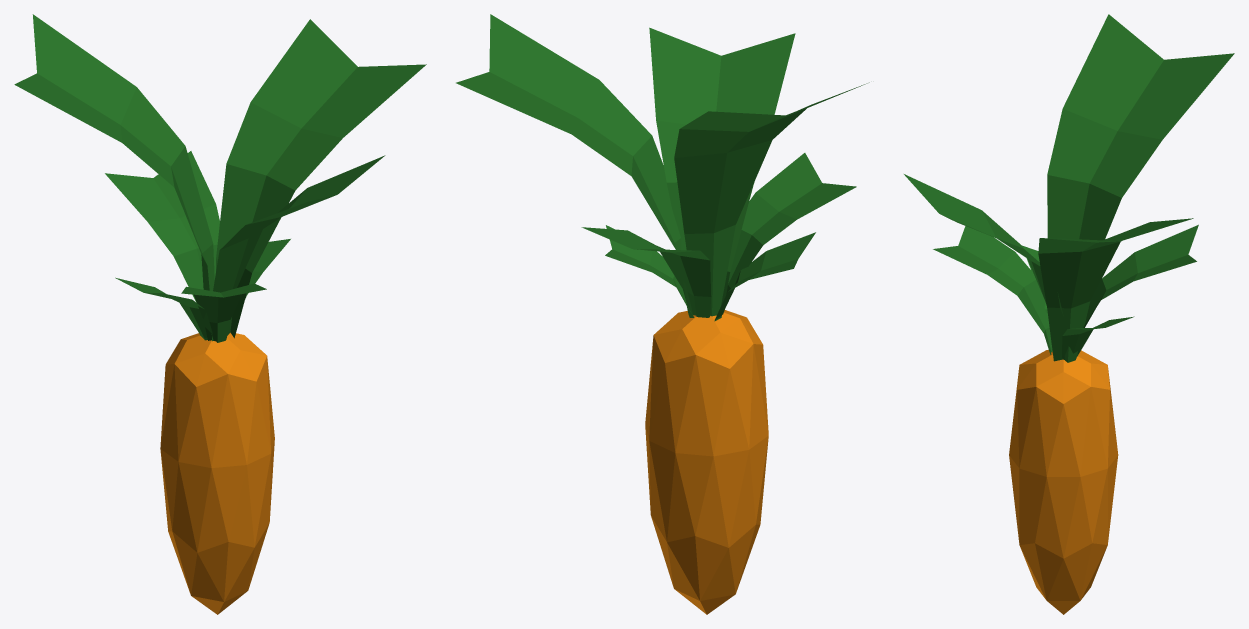
File: Carrot_2.fbx
3 renders of one model, left to right at view 1: azimuth 30°, elevation 25°; view 2: azimuth 150°, elevation 25°; view 3: azimuth 270°, elevation 25°, orthographic. The views are drawn at different scales.
Visible parts, largest first — view 1: Icosphere, Plane.004, Plane.005, Plane.002, Plane.006, Plane, Plane.001, Plane.003; view 2: Icosphere, Plane.004, Plane.006, Plane.005, Plane, Plane.002, Plane.001, Plane.003; view 3: Icosphere, Plane.005, Plane.004, Plane, Plane.002, Plane.006, Plane.003.
Part boxes in pixels (bbox=[...]): Icosphere: bbox=[160, 332, 274, 614]; Plane.004: bbox=[216, 19, 426, 338]; Plane.005: bbox=[14, 14, 214, 291]; Plane.002: bbox=[105, 151, 219, 302]; Plane.006: bbox=[211, 155, 385, 341]; Plane: bbox=[181, 283, 266, 342]; Plane.001: bbox=[115, 277, 212, 340]; Plane.003: bbox=[230, 239, 290, 332]; Icosphere: bbox=[645, 310, 768, 614]; Plane.004: bbox=[456, 14, 693, 317]; Plane.006: bbox=[649, 27, 795, 305]; Plane.005: bbox=[674, 82, 869, 316]; Plane: bbox=[722, 153, 856, 314]; Plane.002: bbox=[581, 227, 711, 317]; Plane.001: bbox=[714, 232, 815, 321]; Plane.003: bbox=[605, 225, 694, 317]; Icosphere: bbox=[1009, 350, 1118, 614]; Plane.005: bbox=[1047, 14, 1234, 240]; Plane.004: bbox=[1038, 218, 1193, 362]; Plane: bbox=[933, 226, 1052, 354]; Plane.002: bbox=[1083, 224, 1198, 327]; Plane.006: bbox=[904, 174, 1064, 359]; Plane.003: bbox=[1062, 316, 1134, 357].
Bounding box in the file's own units: 1111 × 1537 × 890.
